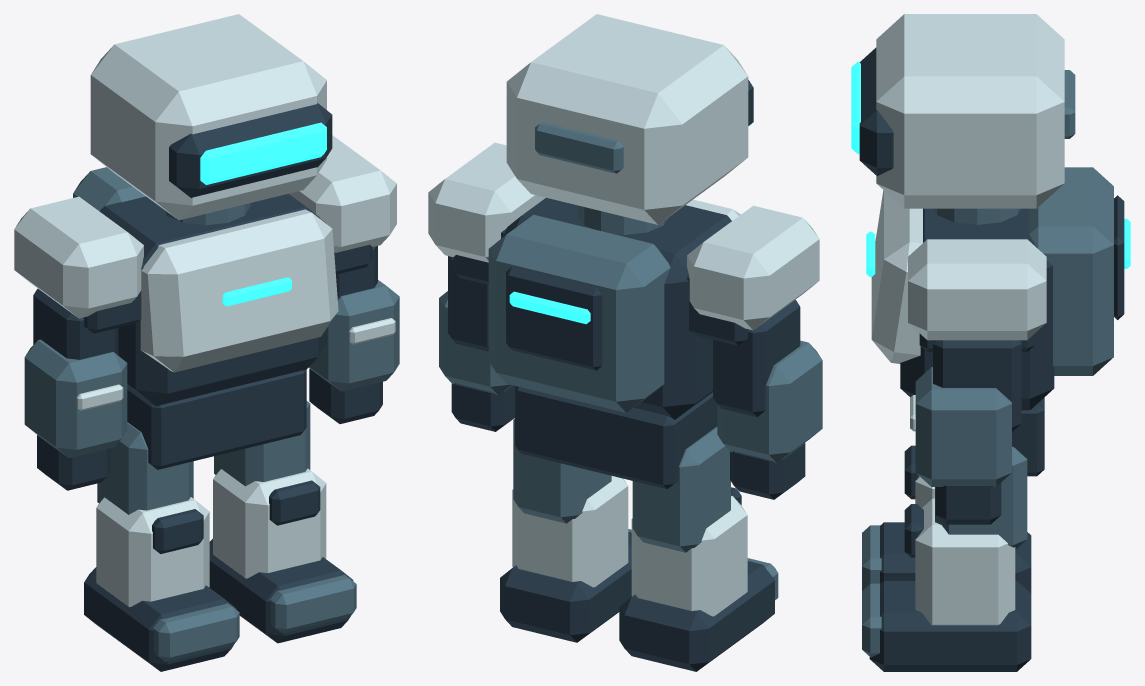
File: TrainingRobot.fbx
3 views of the same model, side by side, from view 1: azimuth 30°, elevation 25°; view 2: azimuth 150°, elevation 25°; view 3: azimuth 270°, elevation 25° (orthographic). The views are drawn at different scales.
Parts seen in each view (by area): view 1: TrainingRobotBody, Visor_FX; view 2: TrainingRobotBody; view 3: TrainingRobotBody, Visor_FX.
Part boxes in pixels (<box>): TrainingRobotBody: <box>14,14,399,671</box>; Visor_FX: <box>200,122,326,184</box>; TrainingRobotBody: <box>428,14,822,671</box>; TrainingRobotBody: <box>859,14,1130,671</box>; Visor_FX: <box>851,61,860,154</box>.
Size of the model in its own units: 106 by 167 by 72.6.
